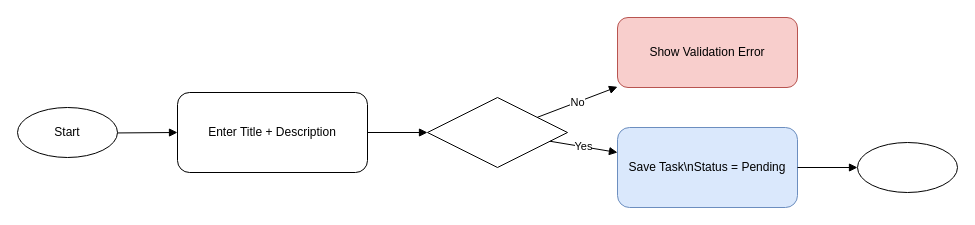
Image size: 975x225. Some labels were removed from this diagram. The centre of each missing label's shape, as x and y in pixels:
End: the point at 907,167
Title Present?: the point at 497,132
